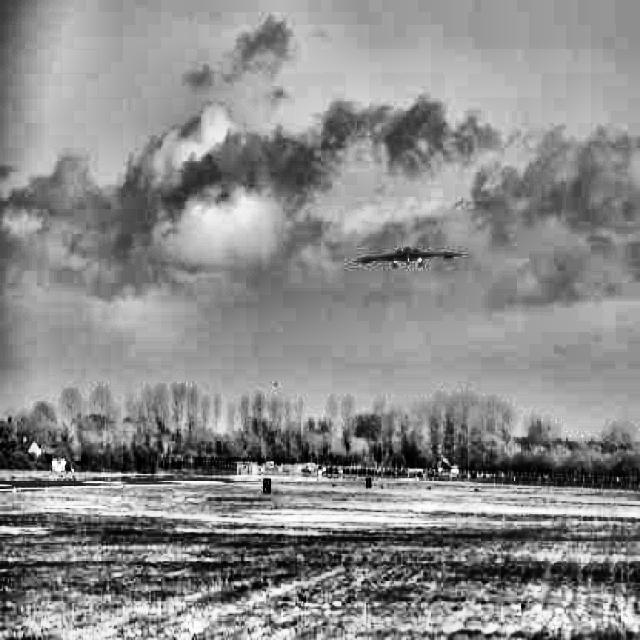B2: (353, 246, 462, 269)
